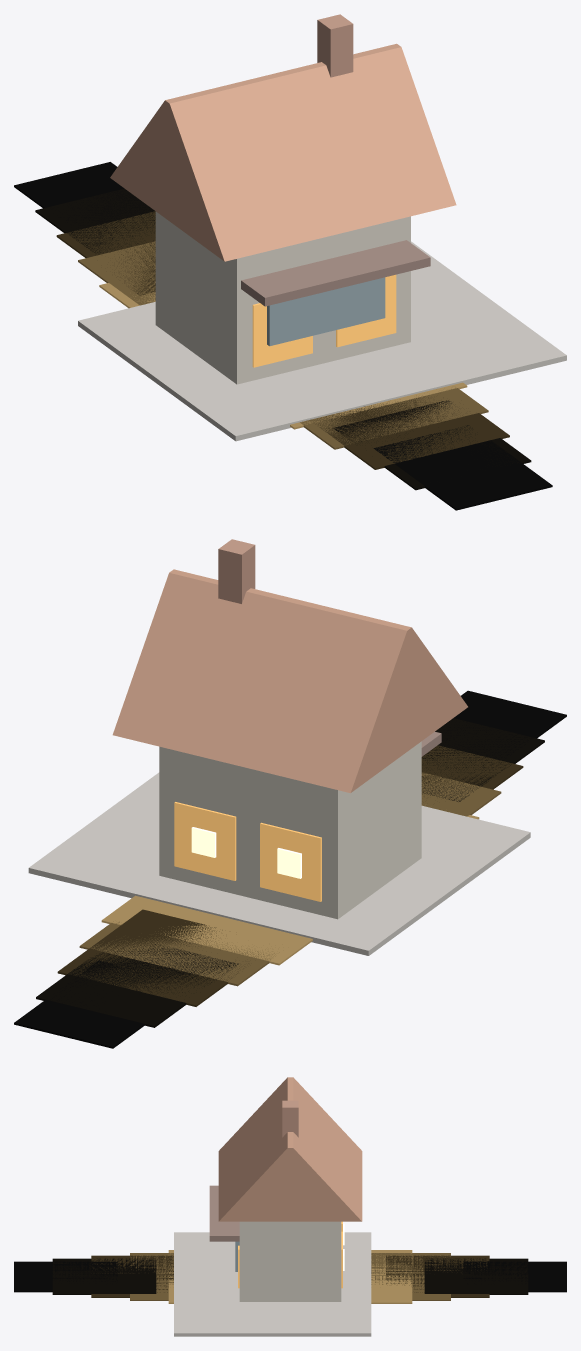
The model's file is plc_pub.glb.
The picture shows the model from 3 angles, top to bottom: view 1: azimuth 30°, elevation 25°; view 2: azimuth 150°, elevation 25°; view 3: azimuth 270°, elevation 25°; orthographic projection. The views are drawn at different scales.
Visible parts, largest first — view 1: plc_village_shop; view 2: plc_village_shop; view 3: plc_village_shop.
Part boxes in pixels (<box>): plc_village_shop: <box>14,14,566,510</box>; plc_village_shop: <box>14,539,566,1048</box>; plc_village_shop: <box>14,1077,566,1336</box>.
Size of the model in its own units: 1.36 by 1.19 by 3.14.
